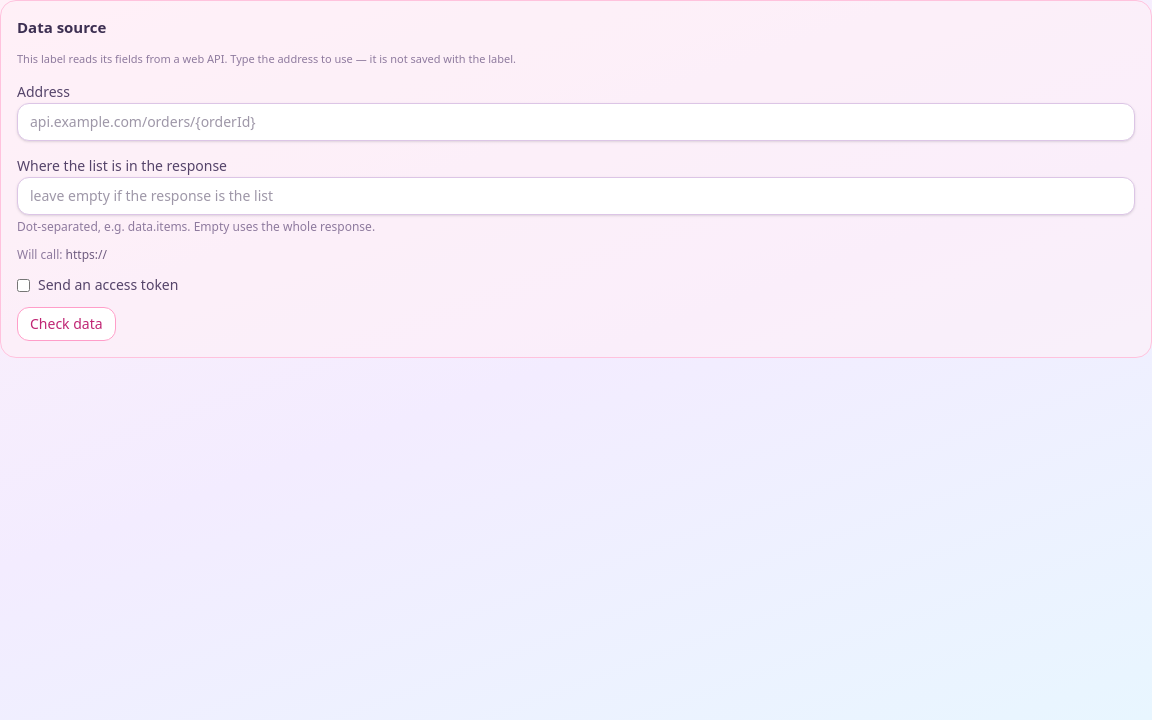
the data source card › shows a fetch error and never the token
Click the checkbox labelled "Send an access token" at (24, 285), box [17, 279, 30, 292]
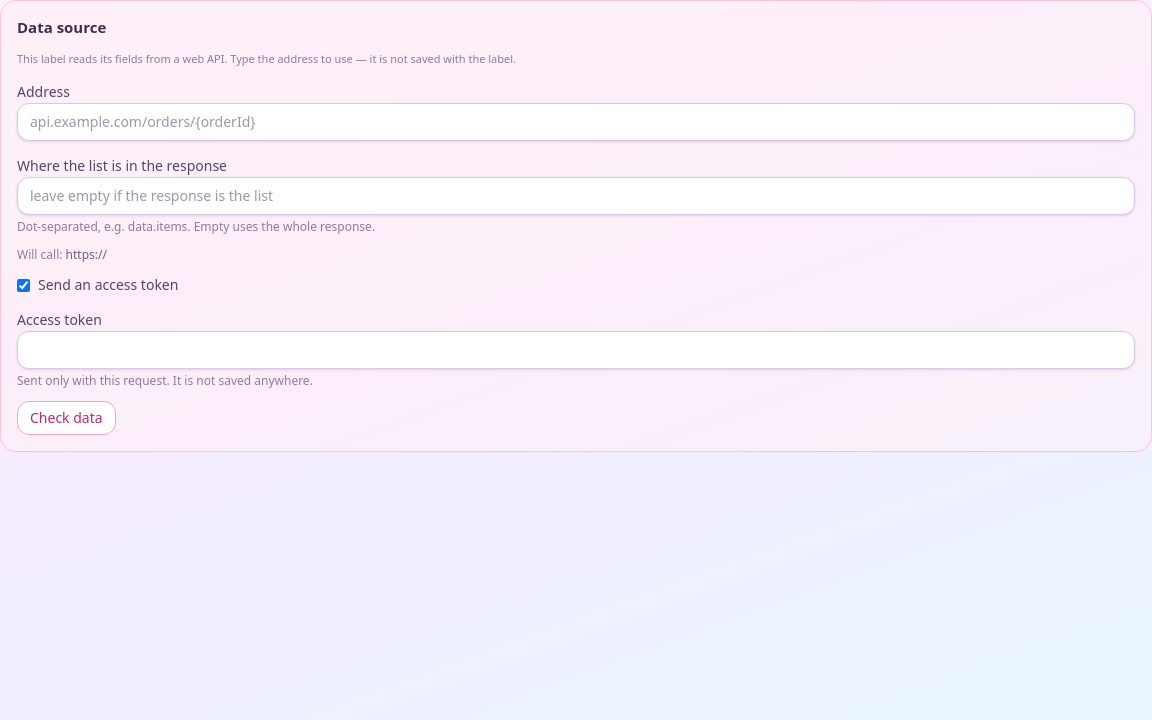
Type "sekret" into the password field labelled "Access token" at (576, 350), box [17, 331, 1135, 369]
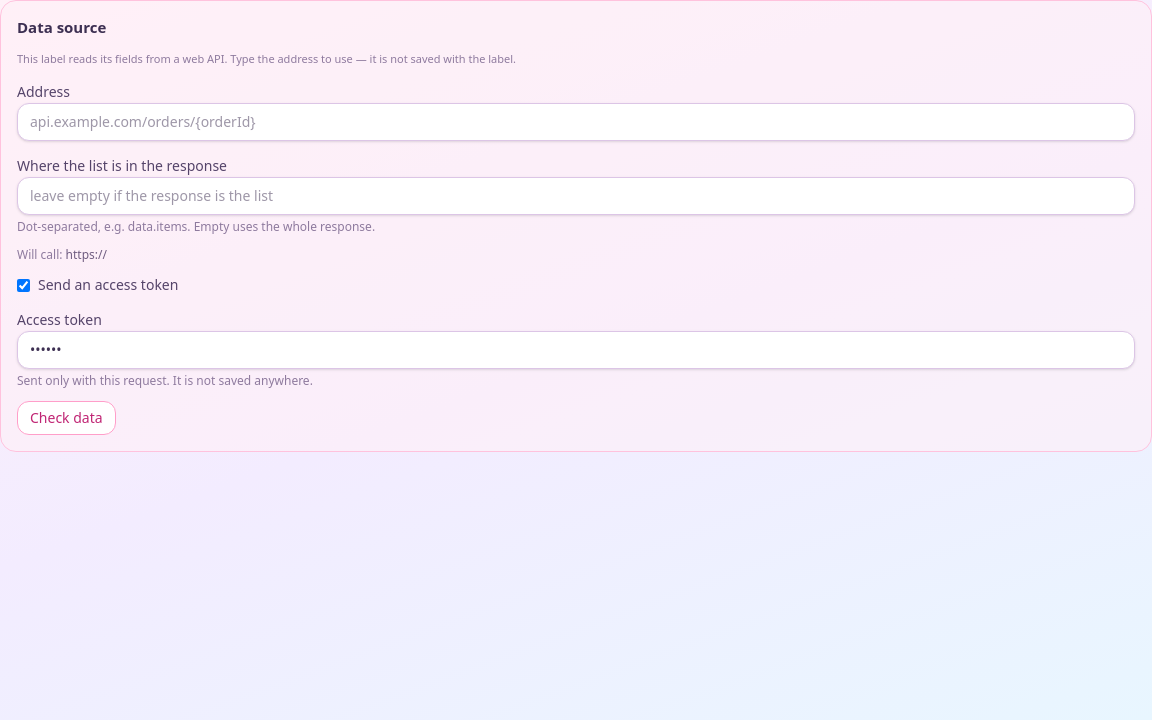
Click the button "Check data" at (66, 418), box [17, 401, 116, 435]
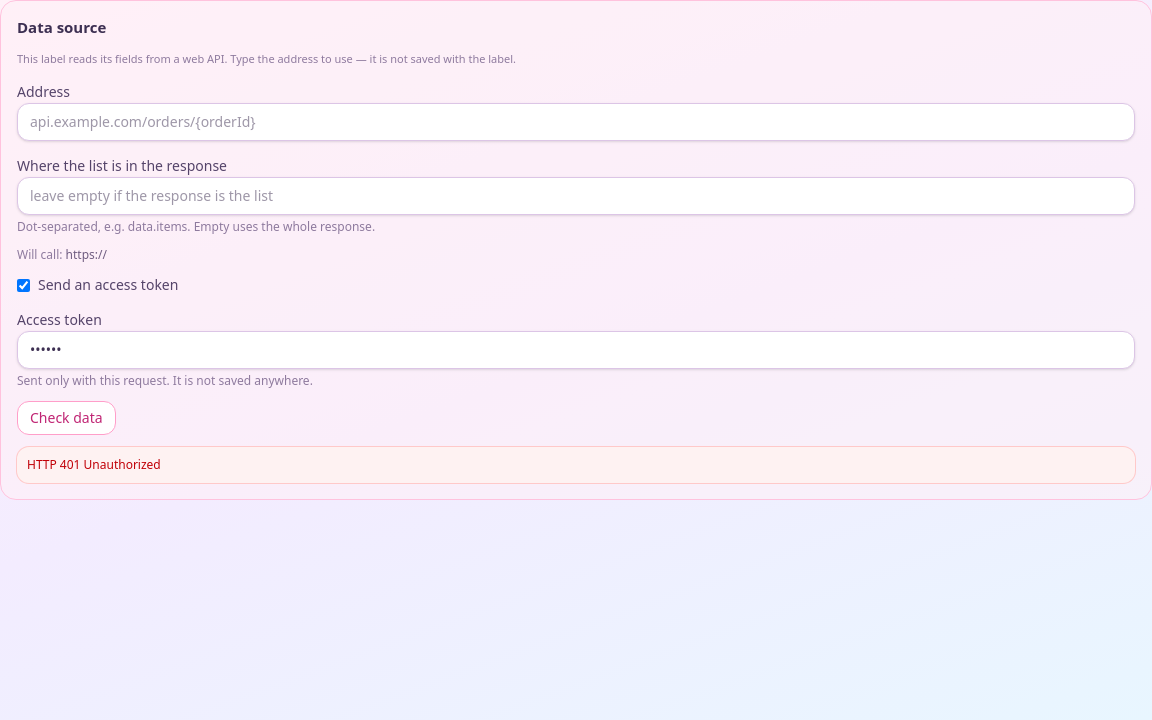
Expected: the message shows "401", [27, 456, 161, 473]
